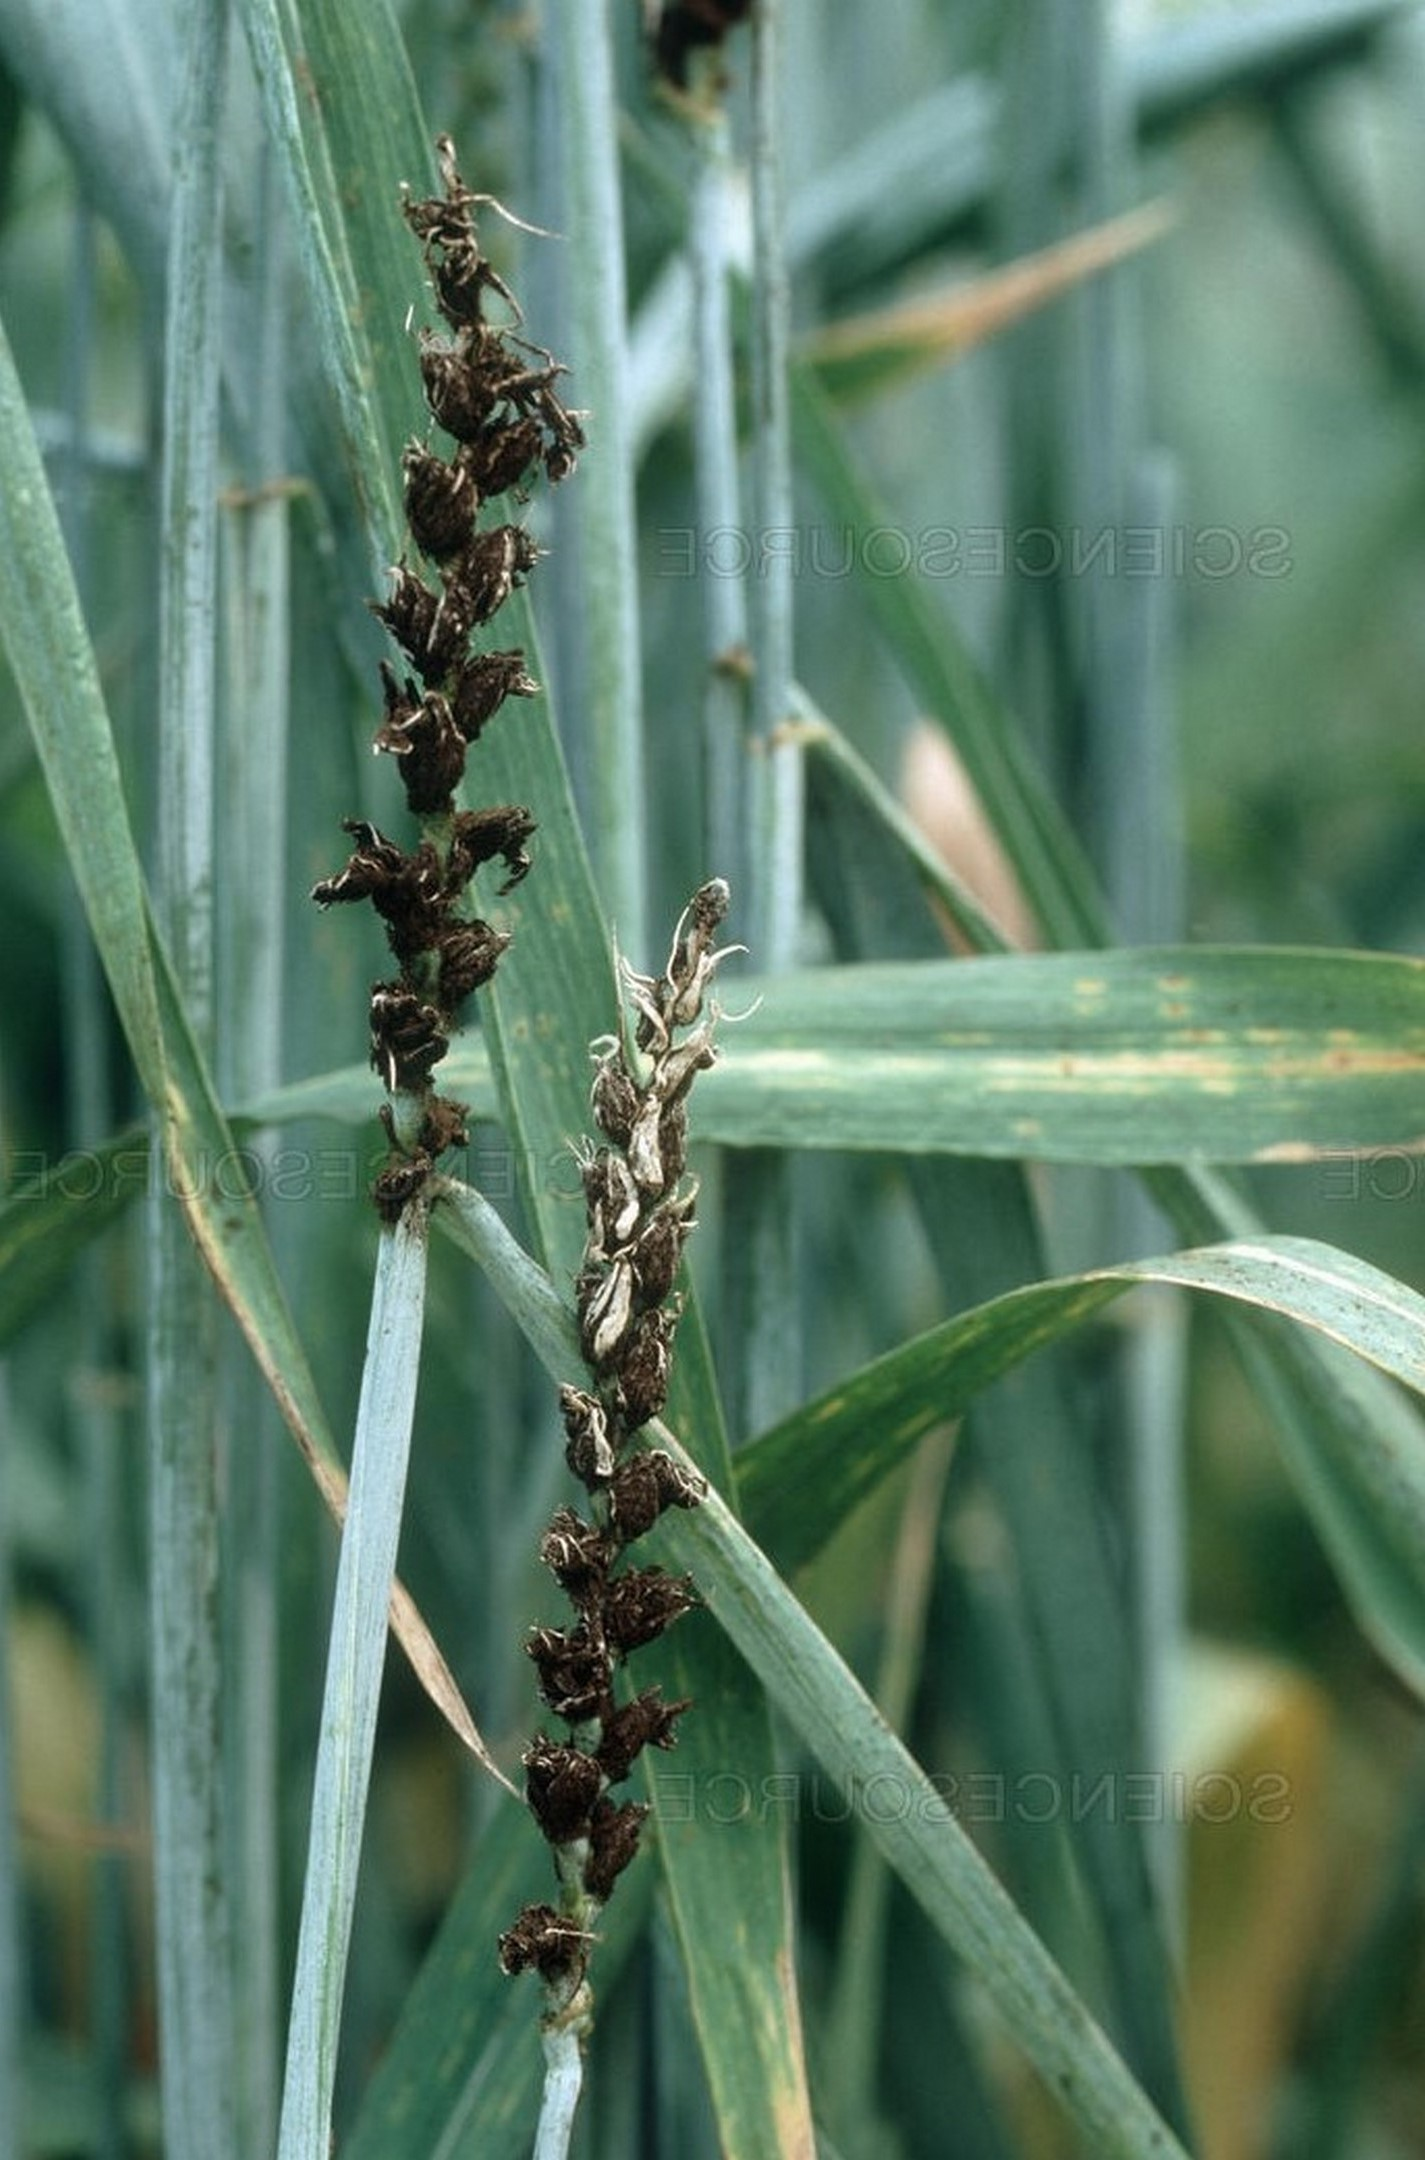Wheat Loose Smut: (525, 876, 776, 1931), (339, 169, 555, 1125)
